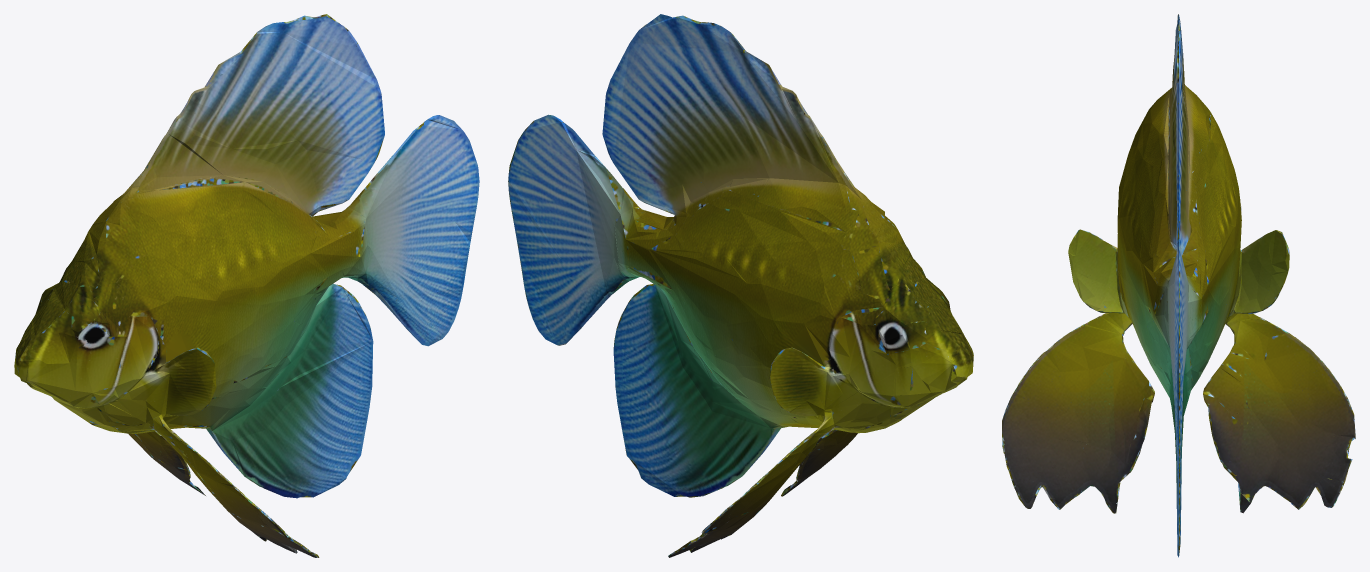
File: fish_0039_smpl23_resized.glb
3 renders of one model, left to right at view 1: azimuth 30°, elevation 25°; view 2: azimuth 150°, elevation 25°; view 3: azimuth 270°, elevation 25°, orthographic. The views are drawn at different scales.
Visible parts, largest first — view 1: world; view 2: world; view 3: world.
Boxes of the visible parts, box(x1,y1,x2,y2) form: world: box(14, 14, 479, 557); world: box(508, 14, 973, 557); world: box(1002, 14, 1355, 557).
Size of the model in its own units: 1.99 by 1.99 by 1.24.
1 material, 1 textured.
